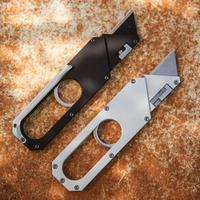knife: (19, 8, 190, 165)
